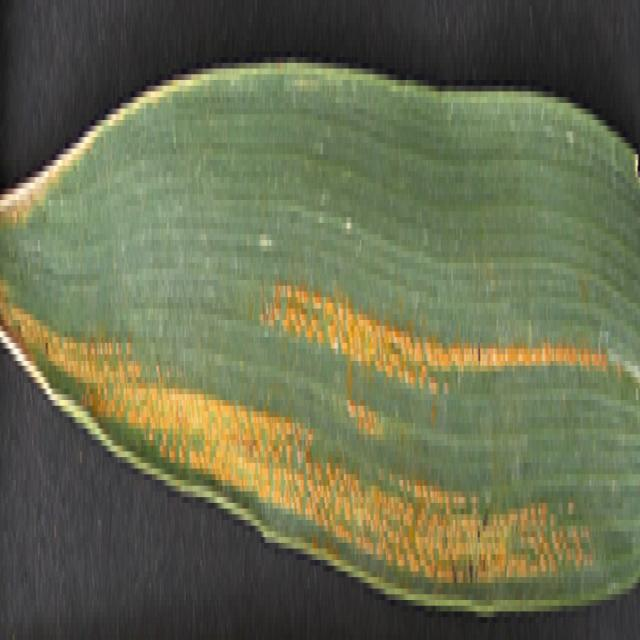leaf rust: (1, 91, 625, 583)
